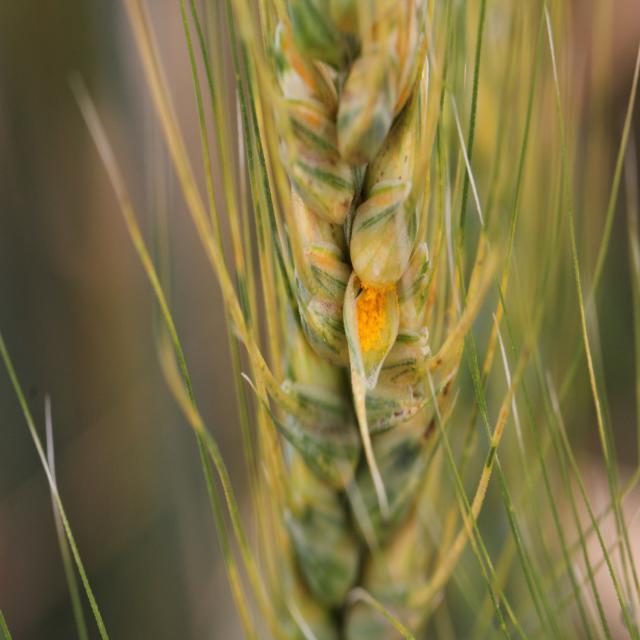wheat-yellowrust: (343, 271, 400, 430)
